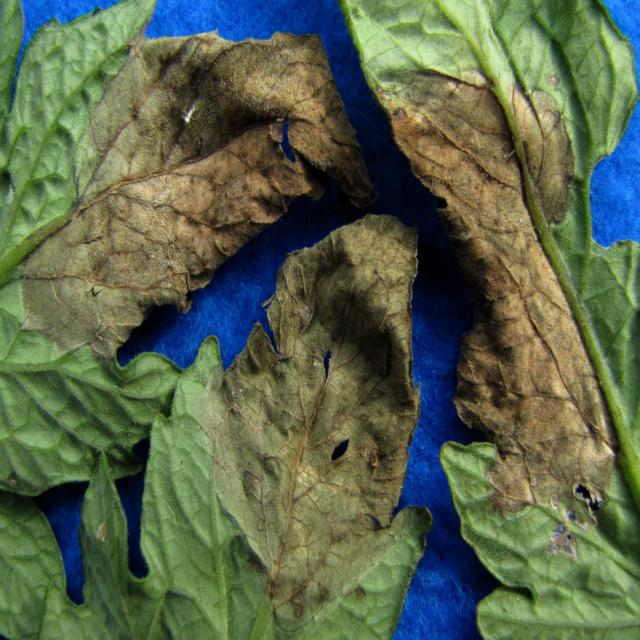Late_blight: (365, 55, 619, 561), (13, 29, 362, 359), (195, 212, 433, 635)
